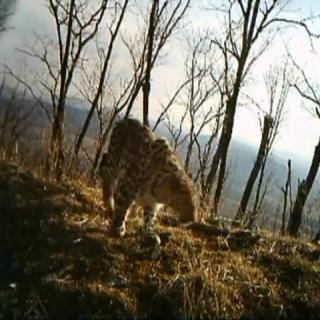Leopard: (113, 106, 224, 224)
